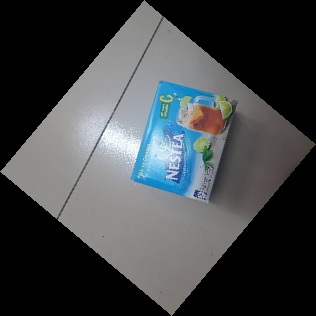Nestea: (130, 80, 240, 205)
